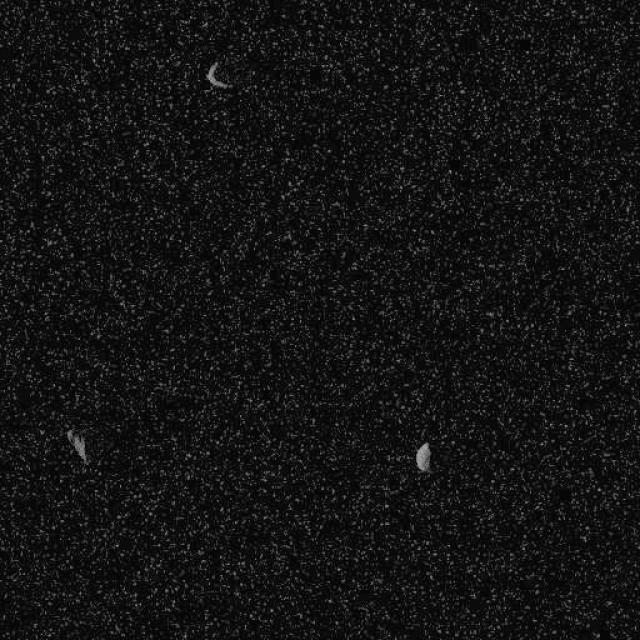D2: (65, 427, 87, 465), (205, 60, 230, 90), (414, 442, 431, 472)
